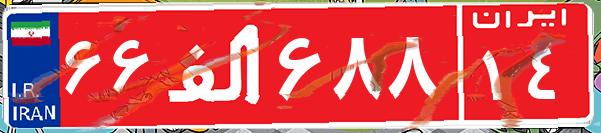1: (475, 38, 525, 113)
4: (525, 38, 570, 115)
6: (273, 28, 330, 110), (57, 26, 110, 107), (110, 28, 158, 105)
8: (385, 28, 445, 110), (330, 28, 385, 110)
الف: (158, 15, 273, 115)
